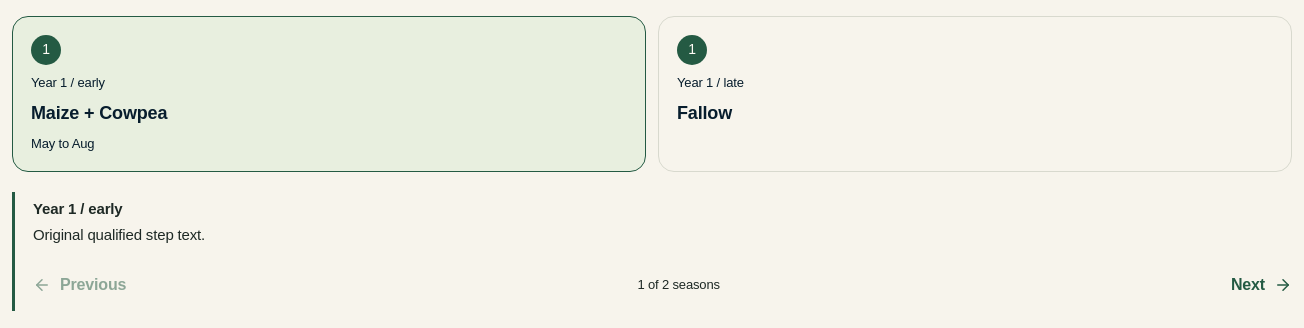
Test: rotation discovery › preserves mixed crops, fallow, years, early/late seasons and exact server text
Expected: the message shows "Original qualified step text.", [33,226,205,243]
Click the button with aria-label "Next season": (1262, 285) [1231,263,1292,307]
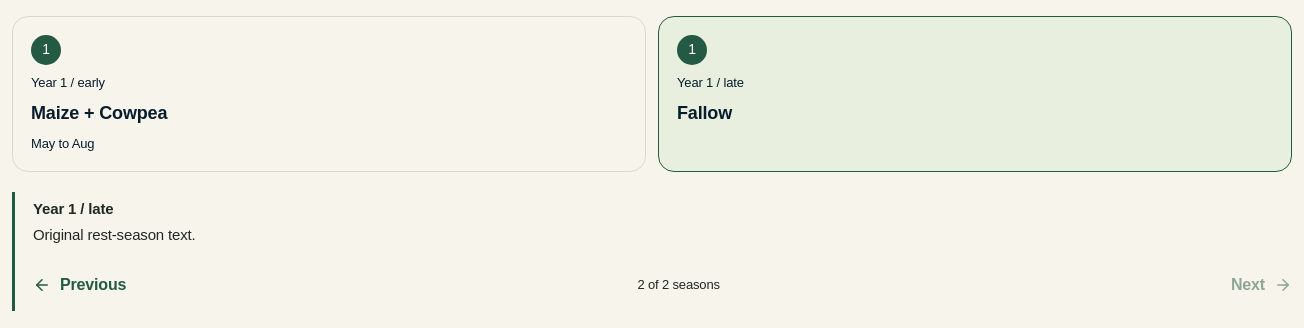
Expected: the message shows "Year 1 / late", [33,200,196,243]
Expected: the message shows "Original rest-season text.", [33,226,196,243]
Expected: the button with aria-label "Next season" is disabled, [1231,263,1292,307]
Click the button with aria-label "Previous season": (80, 285) [33,263,126,307]
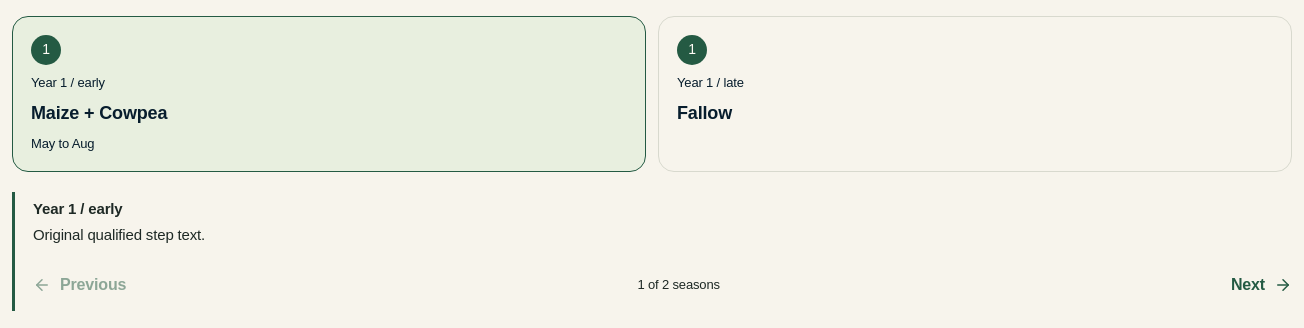
Expected: the message shows "Original qualified step text.", [33,226,205,243]
